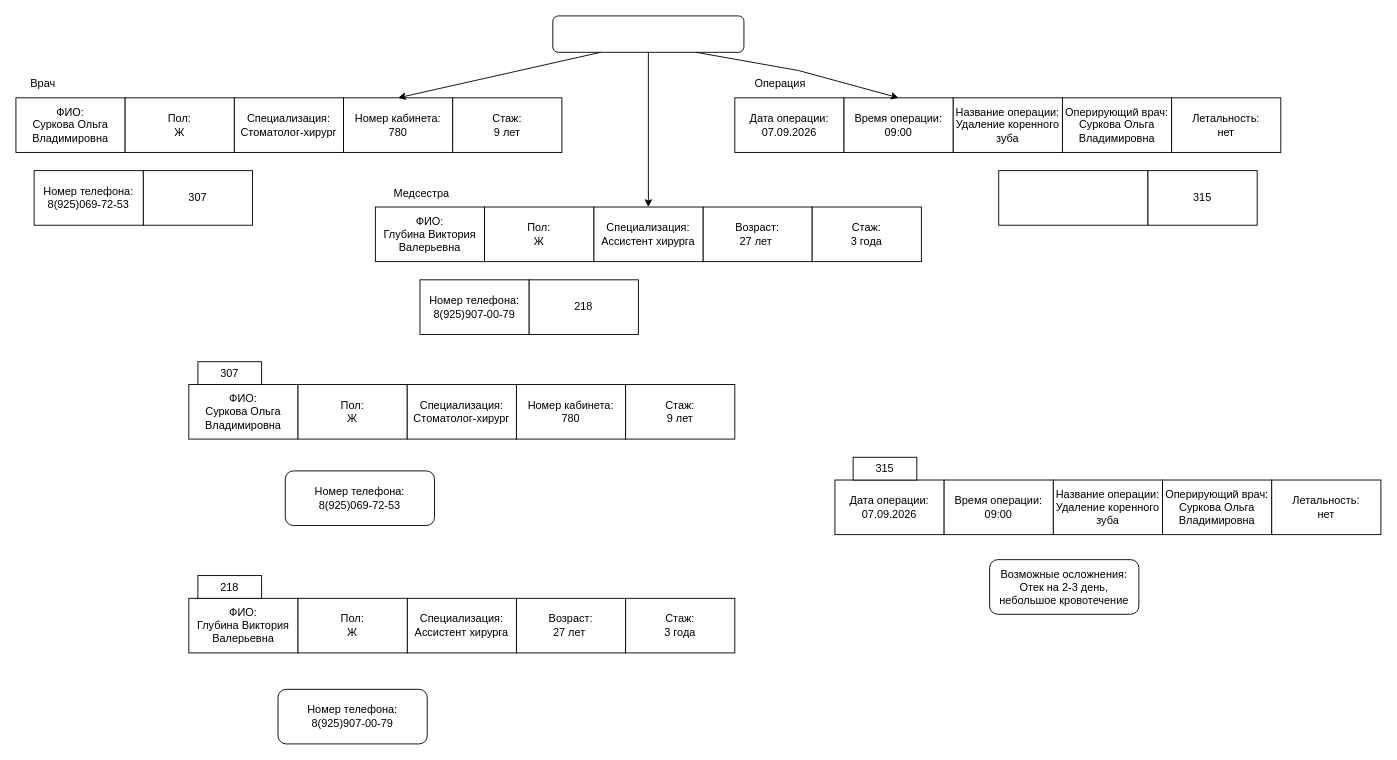
The diagram is 1397 pixels wide and 760 high, and some of its shapes have lost their labels. The centre of each missing label's shape, as x and y in pixels:
"База Данных Стоматология" belongs at pixel 648 33.
"Возможные осложнения: Отек на 2-3 день, небольщле кровотечение" belongs at pixel 1073 197.
